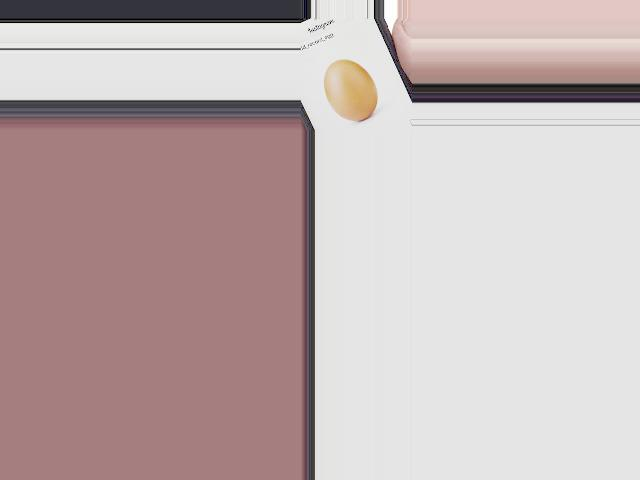egg: (324, 59, 377, 121)
